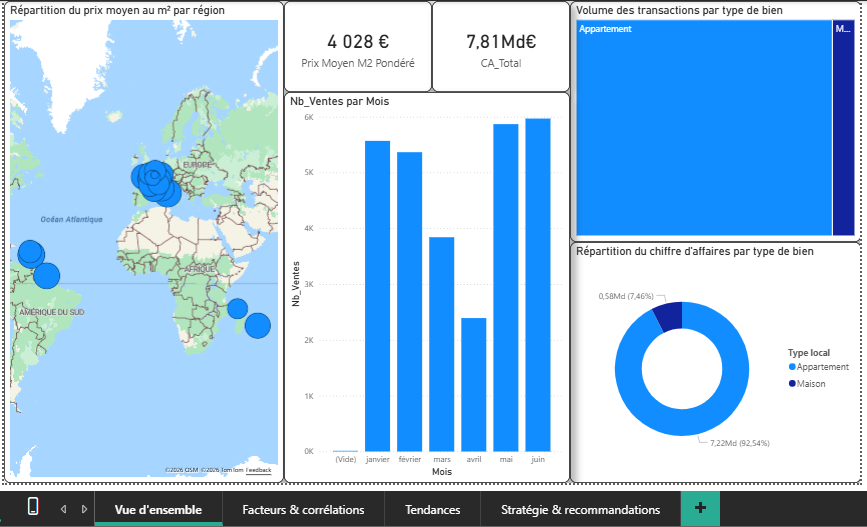

The dashboard page shown, as its layout file describes it:
{"tool":"powerbi","page":{"name":"Vue d'ensemble","canvas":[1280,720],"ordinal":0},"visuals":[{"type":"azureMap","title":"Répartition du prix moyen au m² par région","fields":{"Category":["Region.libelle_region"],"Size":["Ventes.Prix Moyen M2 Pondéré"]},"box":[0,0,418.3,720],"z":0},{"type":"treemap","title":"Volume des transactions par type de bien","fields":{"Group":["Bien.Type local"],"Values":["Ventes.Nb_Ventes"]},"box":[845.5,0,434.7,360],"z":1},{"type":"card","fields":{"Values":["Ventes.Prix Moyen M2 Pondéré"]},"box":[418.3,0,221.1,135.9],"z":2},{"type":"card","fields":{"Values":["Ventes.CA_Total"]},"box":[639.3,0,206.1,135.9],"z":4},{"type":"donutChart","title":"Répartition du chiffre d''affaires par type de bien","fields":{"Category":["Bien.Type local"],"Y":["Sum(Ventes.Valeur fonciere)"]},"box":[845.5,360,434.7,360],"z":5},{"type":"clusteredColumnChart","fields":{"Category":["Ventes.Date mutation.Variation.Hiérarchie de dates.Mois","Ventes.Date mutation.Variation.Hiérarchie de dates.Jour"],"Y":["Ventes.Nb_Ventes"]},"box":[418.3,135.9,427.2,584.1],"z":6}]}

Visuals, with their boxes in screenshot pixels (x1, y1, x2, y2):
"Répartition du prix moyen au m² par région" azureMap: [2, 0, 282, 481]
"Volume des transactions par type de bien" treemap: [567, 0, 857, 240]
card - Ventes.Prix Moyen M2 Pondéré: [282, 0, 429, 91]
card - Ventes.CA_Total: [429, 0, 567, 91]
"Répartition du chiffre d''affaires par type de bien" donutChart: [567, 240, 857, 481]
clusteredColumnChart - Ventes.Date mutation.Variation.Hiérarchie de dates.Mois x Ventes.Date mutation.Variation.Hiérarchie de dates.Jour: [282, 91, 567, 481]
